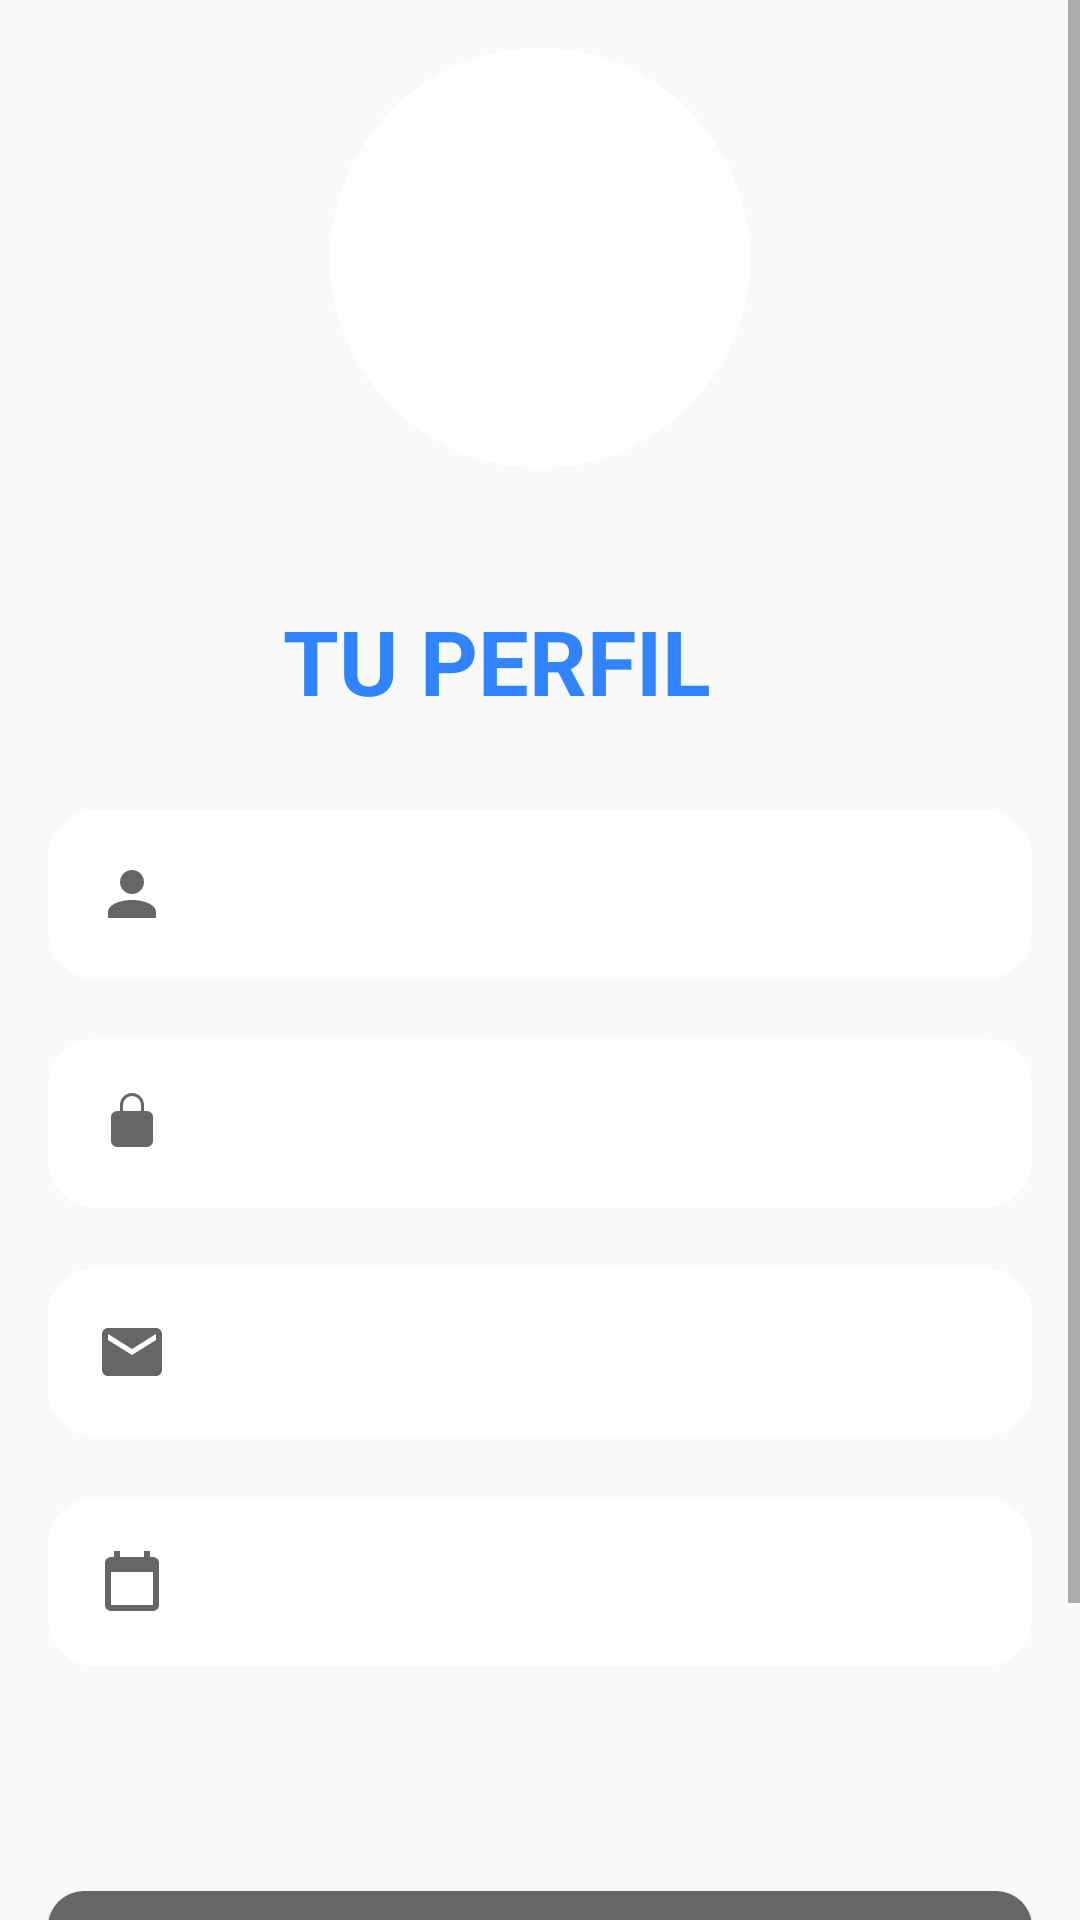

Icon bounding boxes for this 1080 × 1920 phone screenshot, format (x1, y1, x2, y2):
age: (105, 1551, 159, 1611)
change password: (111, 1093, 153, 1147)
email: (102, 1328, 162, 1376)
